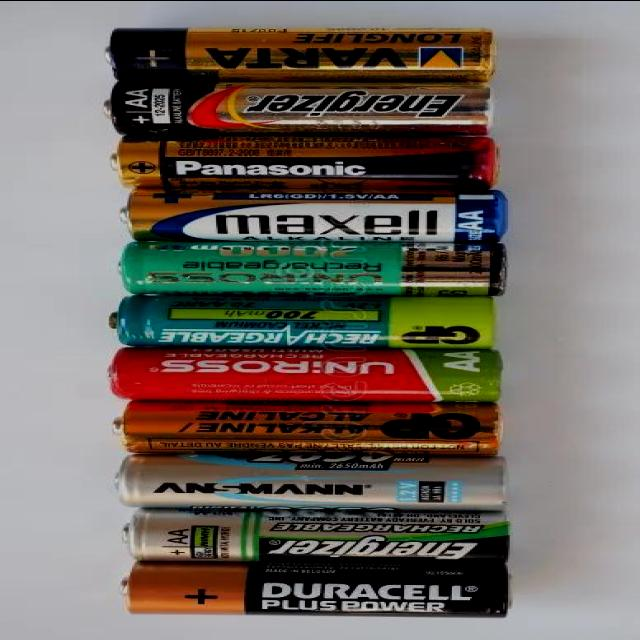AA: (114, 559, 512, 619), (110, 452, 510, 510), (117, 507, 512, 564), (99, 24, 496, 80), (99, 79, 494, 135), (108, 398, 502, 454), (102, 346, 503, 401), (101, 293, 495, 348), (104, 134, 498, 189), (112, 240, 505, 295), (116, 187, 508, 240)
